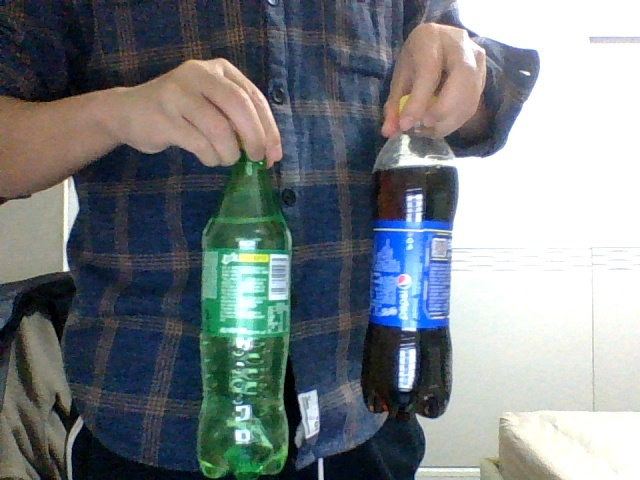Cola: (358, 93, 459, 418)
Sprite: (197, 135, 292, 475)
